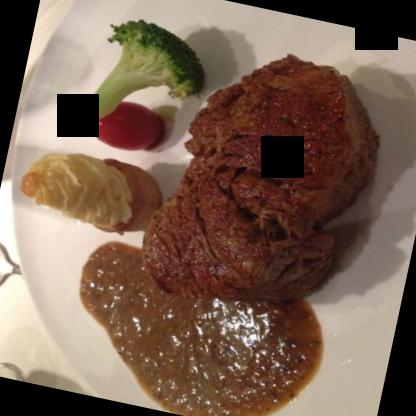beef: (130, 32, 396, 328)
broccoli: (70, 10, 210, 138)
tomato: (84, 97, 166, 155)
